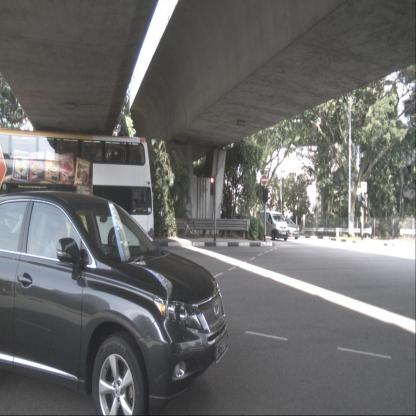vehicle-bicycle: (183, 219, 200, 240)
vehicle-bus-rigid: (0, 128, 155, 255)
vehicle-car: (0, 190, 230, 416), (258, 209, 289, 241), (272, 217, 300, 240)
